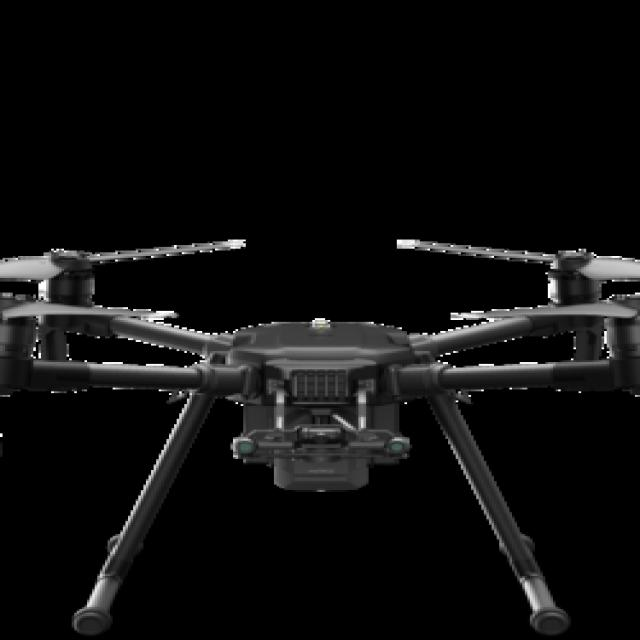drone: (0, 234, 640, 485)
